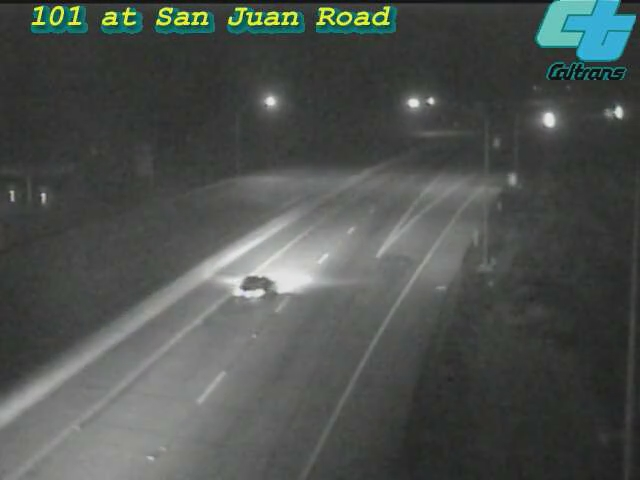vehicle: (218, 243, 298, 323), (585, 90, 635, 140), (526, 94, 576, 144), (595, 87, 640, 137)
